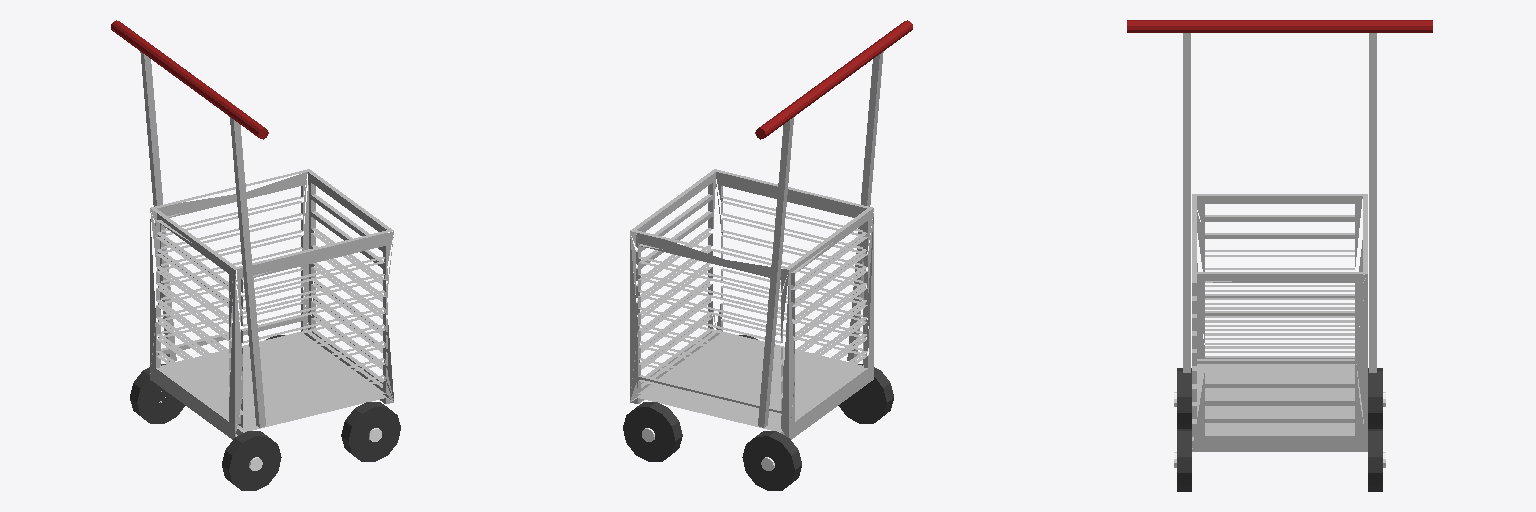
URDF robot description (metal_small_cart-robot):
<?xml version="1.0"?>
<robot name="metal_small_cart-robot"
       xmlns:xi="http://www.w3.org/2001/XInclude"
       xmlns:gazebo="http://playerstage.sourceforge.net/gazebo/xmlschema/#gz"
       xmlns:model="http://playerstage.sourceforge.net/gazebo/xmlschema/#model"
       xmlns:sensor="http://playerstage.sourceforge.net/gazebo/xmlschema/#sensor"
       xmlns:body="http://playerstage.sourceforge.net/gazebo/xmlschema/#body"
       xmlns:geom="http://playerstage.sourceforge.net/gazebo/xmlschema/#geom"
       xmlns:joint="http://playerstage.sourceforge.net/gazebo/xmlschema/#joint"
       xmlns:interface="http://playerstage.sourceforge.net/gazebo/xmlschema/#interface"
       xmlns:rendering="http://playerstage.sourceforge.net/gazebo/xmlschema/#rendering"
       xmlns:renderable="http://playerstage.sourceforge.net/gazebo/xmlschema/#renderable"
       xmlns:controller="http://playerstage.sourceforge.net/gazebo/xmlschema/#controller"
       xmlns:physics="http://playerstage.sourceforge.net/gazebo/xmlschema/#physics">
  <gazebo>
    <static>false</static>
  </gazebo>
  <link name="nil_link">
    <visual>
      <origin xyz="0 0 0" rpy="0 -0 0"/>
      <geometry>
        <mesh filename="model://metal_small_cart/meshes/nil_link_mesh.dae" scale="1 1 1" />
      </geometry>
    </visual>
    <collision>
      <origin xyz="0 0 0" rpy="0 -0 0"/>
      <geometry>
        <mesh filename="model://metal_small_cart/meshes/nil_link_mesh.dae" scale="1 1 1" />
      </geometry>
    </collision>
    <inertial>
      <mass value="0.001" />
      <origin xyz="0 0 0" rpy="0 -0 0"/>
      <inertia ixx="1e-03" ixy="0" ixz="0" iyy="1e-03" iyz="0" izz="1e-03"/>
    </inertial>
  </link>
  <gazebo reference="nil_link">
    <mu1>0.9</mu1>
    <mu2>0.9</mu2>
  </gazebo>
</robot>

--- Facts derived from the render (not from the file) ---
Views: 3 orthographic renders of the robot side by side, from view 1: azimuth 30°, elevation 25°; view 2: azimuth 150°, elevation 25°; view 3: azimuth 270°, elevation 25°.
Robot: metal_small_cart-robot — 1 links, 0 joints (none); root link nil_link; default pose: every joint at zero.
Links seen in each view (by area): view 1: nil_link; view 2: nil_link; view 3: nil_link.
Link boxes in pixels (x1=…): nil_link: x1=111, y1=20, x2=400, y2=490; nil_link: x1=623, y1=20, x2=912, y2=490; nil_link: x1=1127, y1=20, x2=1432, y2=491.
Bounding box of the posed robot: 0.4055 × 0.6 × 0.8636 m (x, y, z).
1 mesh visuals loaded from 1 distinct referenced files (1 Collada DAE).